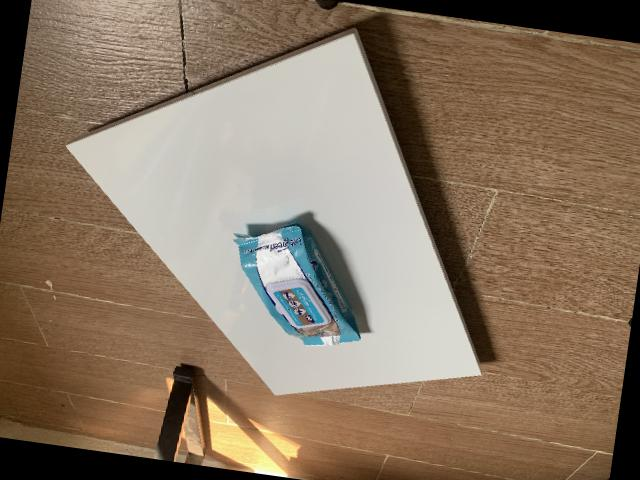Let-green_alcohol_wipes: (230, 220, 360, 345)
